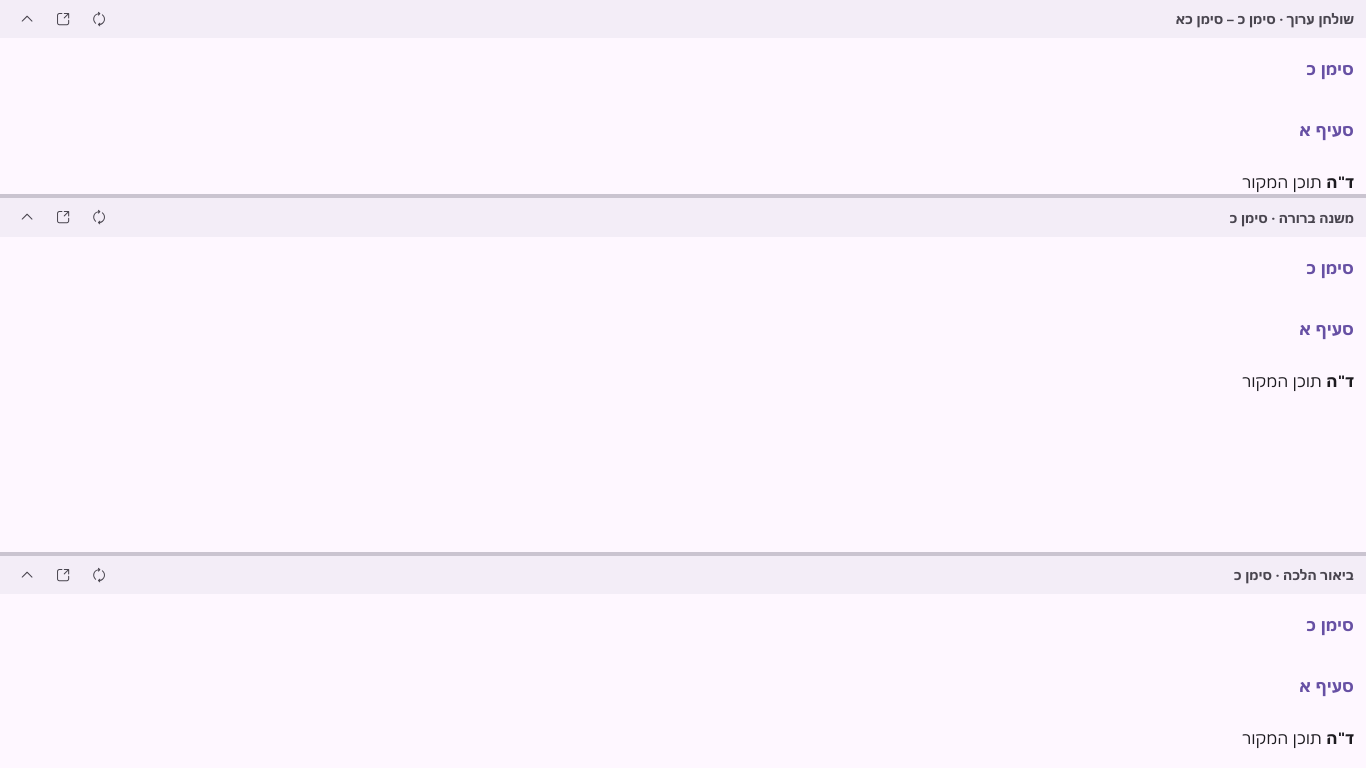
Test: SourcePane — פעולות בכותרת › כפתור רענון טוען מחדש את המקור
Click the button titled "רענן" in the row of "שולחן ערוך · סימן כ – סימן כא". click: (100, 19)
box: top-left (84, 8), bottom-right (115, 30)
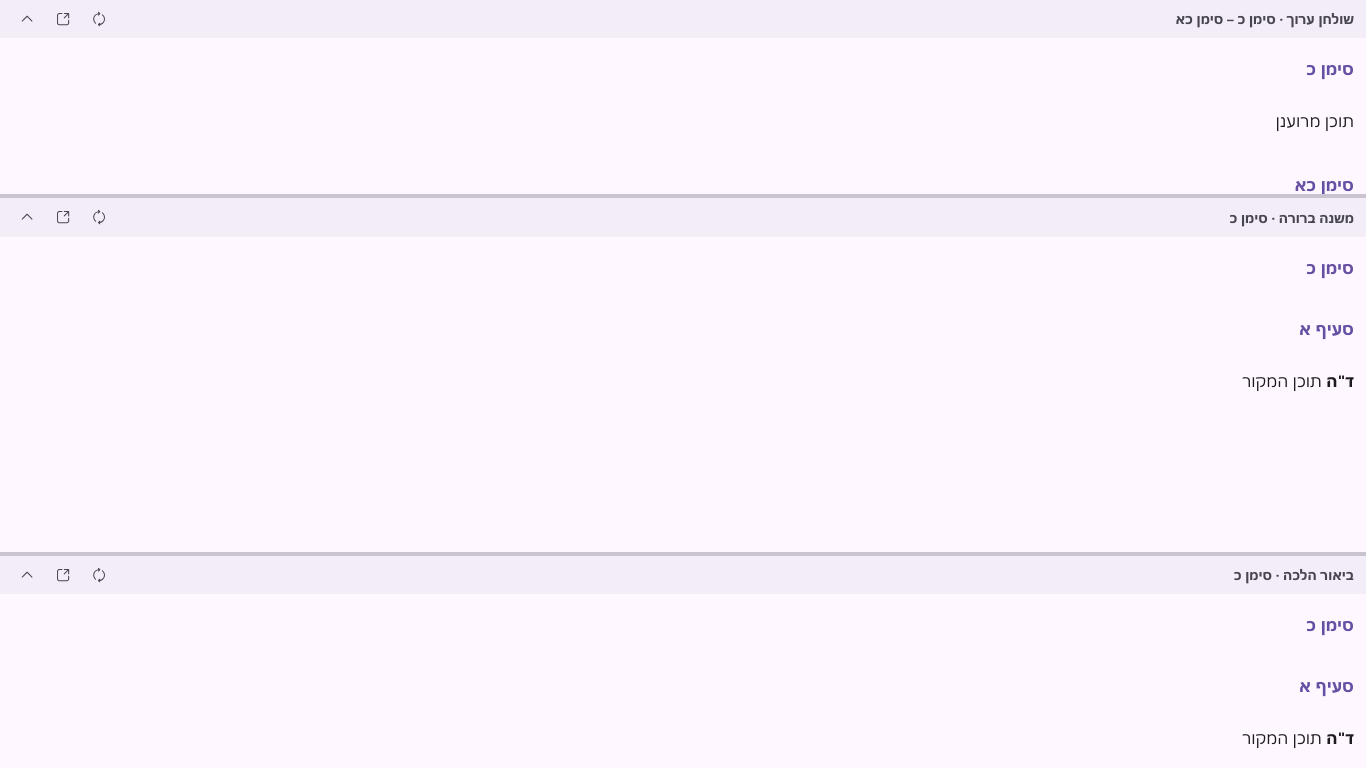
Result: the element with class "source-html" shows "תוכן מרוענן" at top-left (1275, 110), bottom-right (1354, 131)
